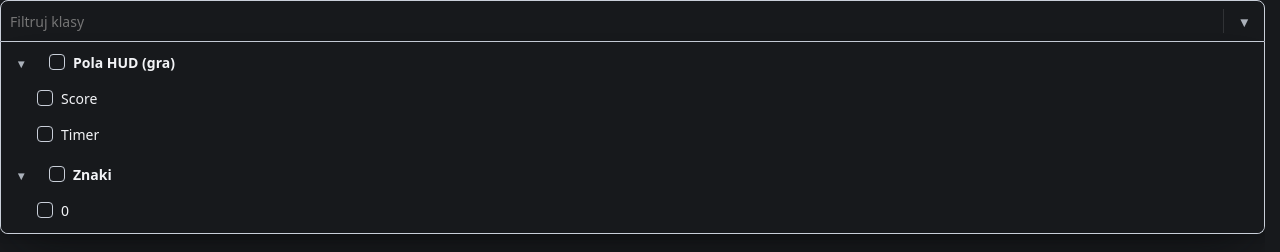
Test: GroupedOptionList in multiple mode › filters by option name and by group name
The image size is (1280, 252).
Type "sco" into the field labelled "Filtruj klasy" at (612, 21), box x1=5 y1=5 x2=1219 y2=37
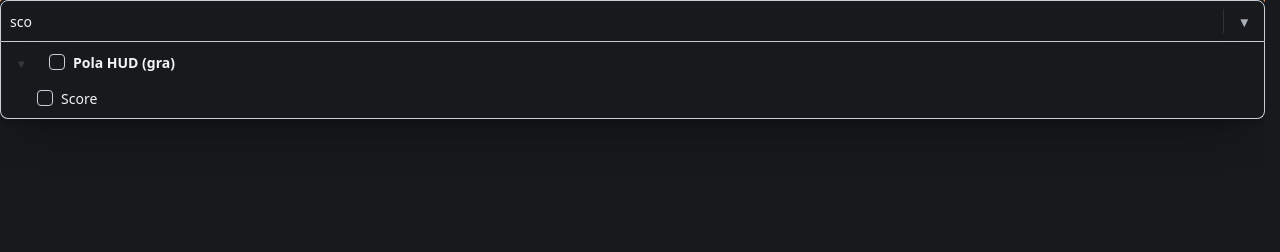
Expected: the checkbox labelled "Score" is shown, x1=37 y1=88 x2=97 y2=108
Expected: the checkbox labelled "Timer" is gone
Expected: the checkbox labelled "Znaki" is gone
Replace the text in the field named "Filtruj klasy" with "znak" at (612, 21), box x1=5 y1=5 x2=1219 y2=37
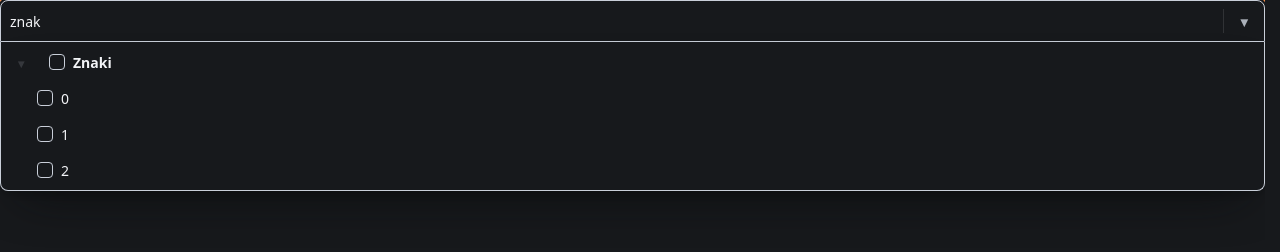
Expected: the number of checkboxes is 4, x1=49 y1=52 x2=112 y2=72; x1=37 y1=88 x2=69 y2=108; x1=37 y1=124 x2=69 y2=144; x1=37 y1=160 x2=69 y2=180
